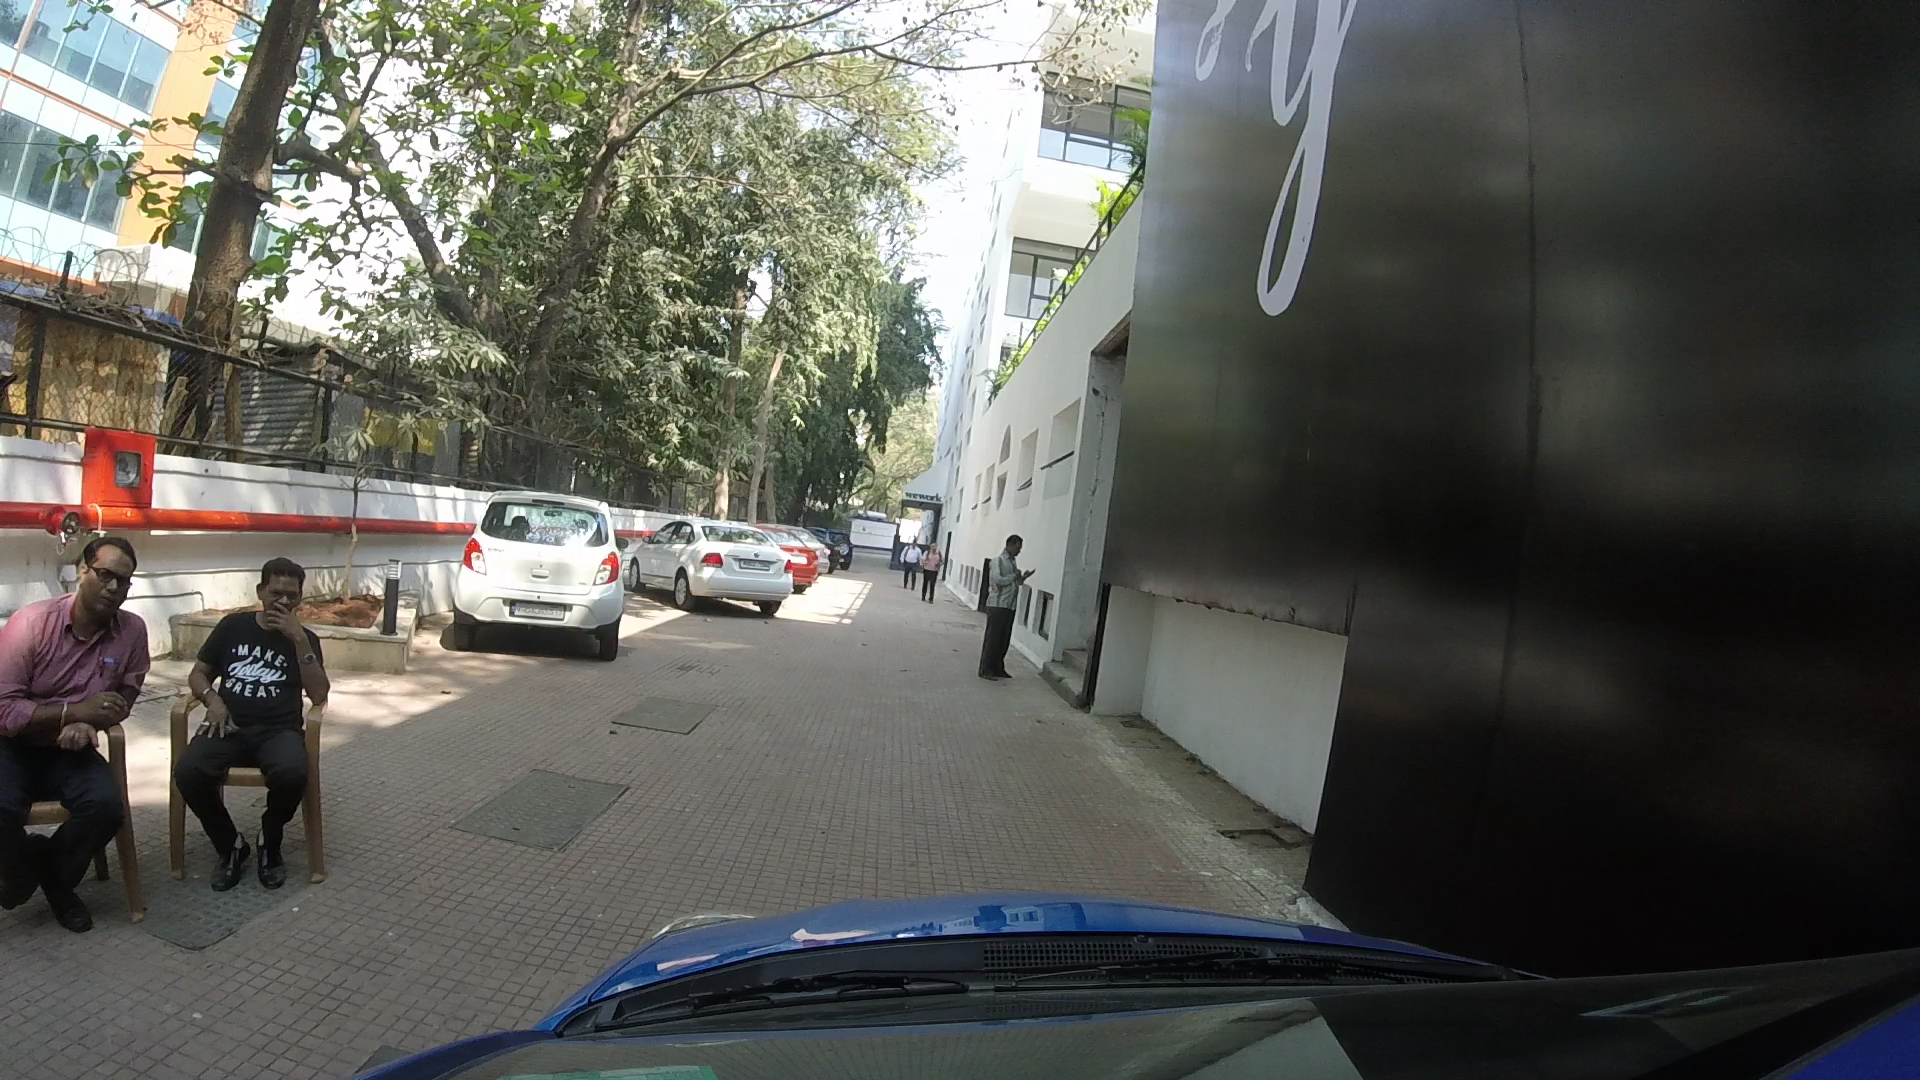car: (458, 483, 634, 633), (637, 513, 799, 622)
